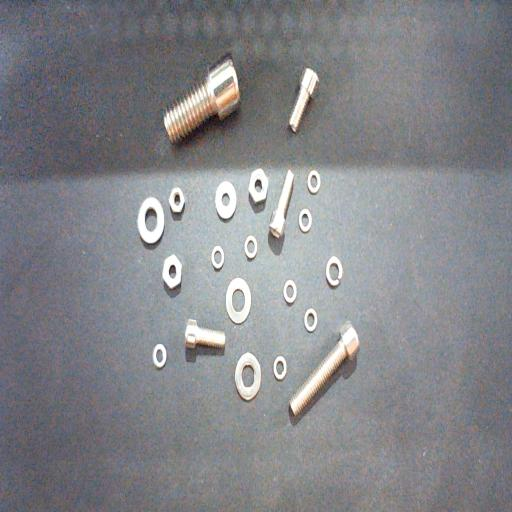nut: (162, 254, 182, 290), (248, 168, 268, 203), (169, 186, 184, 212)
screw: (164, 55, 240, 144), (290, 320, 360, 416), (289, 68, 319, 133), (269, 169, 294, 239), (185, 320, 225, 348)
washer: (138, 196, 164, 244), (235, 353, 261, 400), (226, 277, 251, 324), (214, 180, 236, 218), (326, 256, 342, 286), (298, 208, 312, 232), (304, 308, 318, 332), (273, 356, 287, 380), (307, 170, 321, 193), (211, 245, 224, 269), (283, 280, 296, 304), (153, 344, 166, 368), (244, 236, 258, 258)
